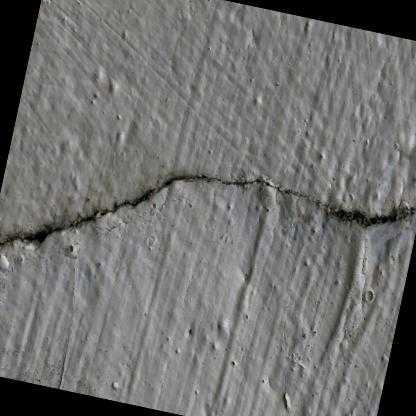crack: (0, 172, 416, 246)
